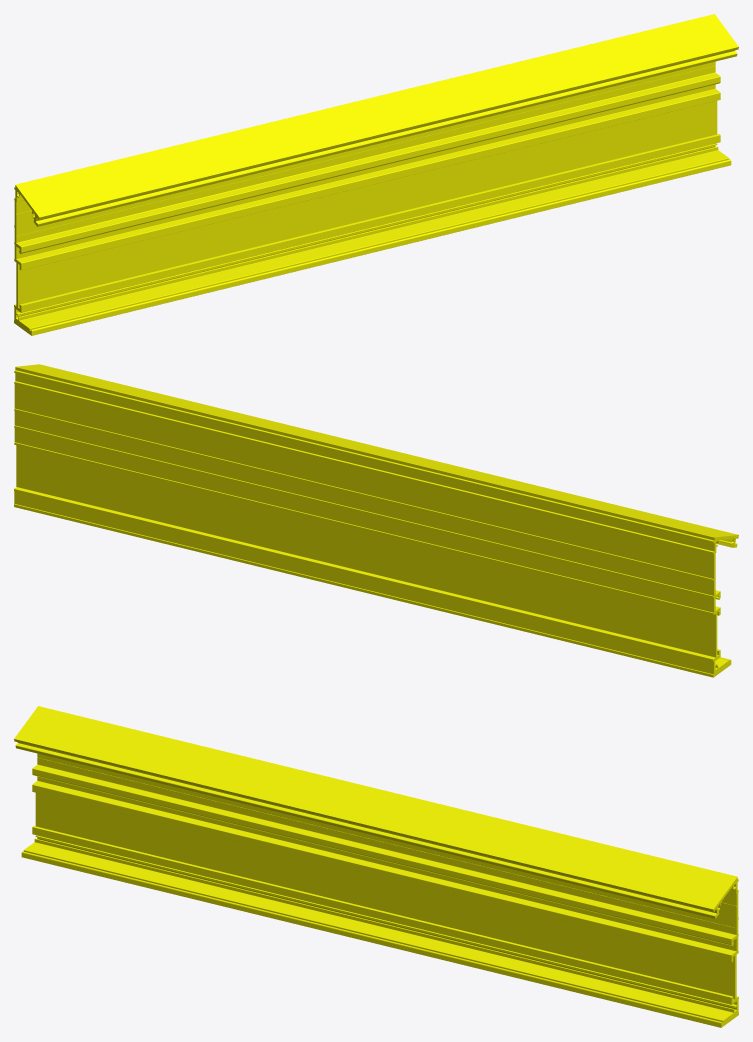
Rendered from wallProfile.glb.
3 views of the same model, one above another, from view 1: azimuth 30°, elevation 25°; view 2: azimuth 150°, elevation 25°; view 3: azimuth 330°, elevation 25° (orthographic).
Parts seen in each view (by area): view 1: Wandprofil_Premium_2_1; view 2: Wandprofil_Premium_2_1; view 3: Wandprofil_Premium_2_1.
Part boxes in pixels (<box>): Wandprofil_Premium_2_1: <box>14,14,738,335</box>; Wandprofil_Premium_2_1: <box>14,364,738,677</box>; Wandprofil_Premium_2_1: <box>14,706,738,1027</box>.
Bounding box in the file's own units: 1 × 0.1904 × 0.0633.
1 material, 1 textured.
